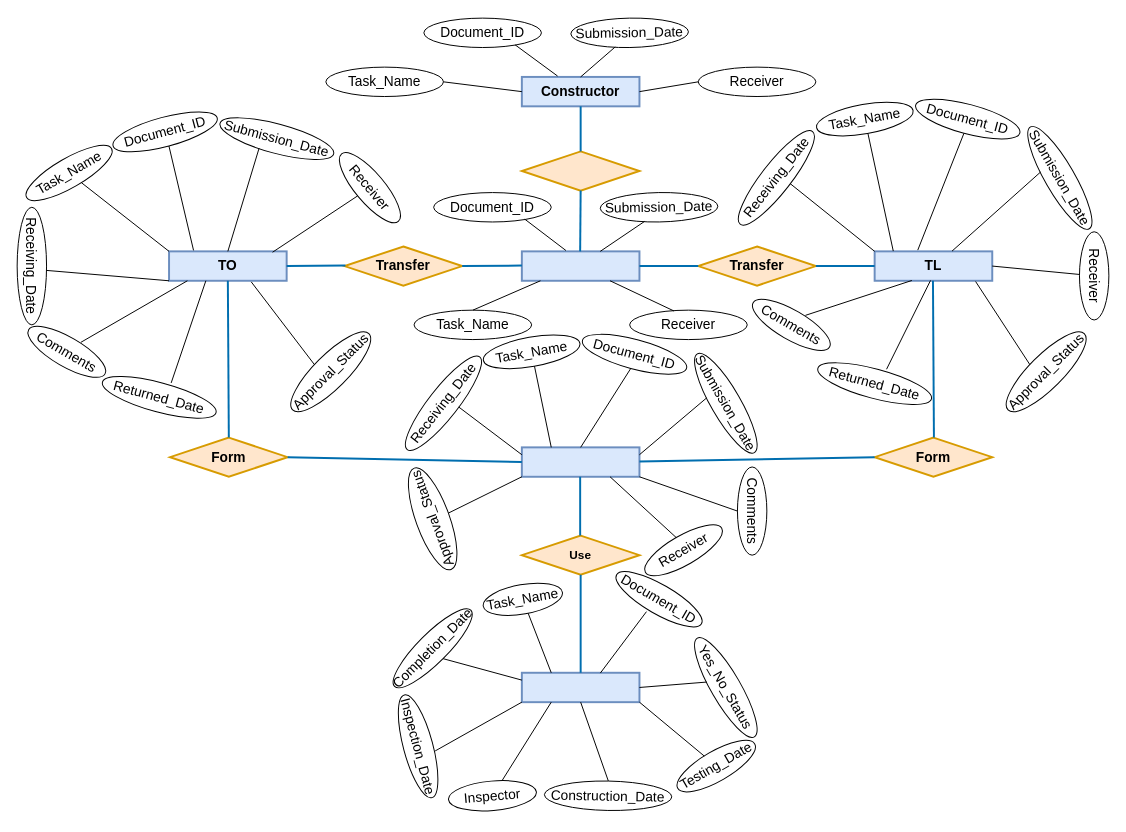
Some shapes in this 1126 by 832 pixel diagram are drawn without their labels. The centre of each missing label's shape, as x and y in pixels:
"Construction" belongs at point (580, 687).
"PMO" belongs at point (580, 265).
"Submit" belongs at point (580, 170).
"TO & TL" belongs at point (580, 461).
